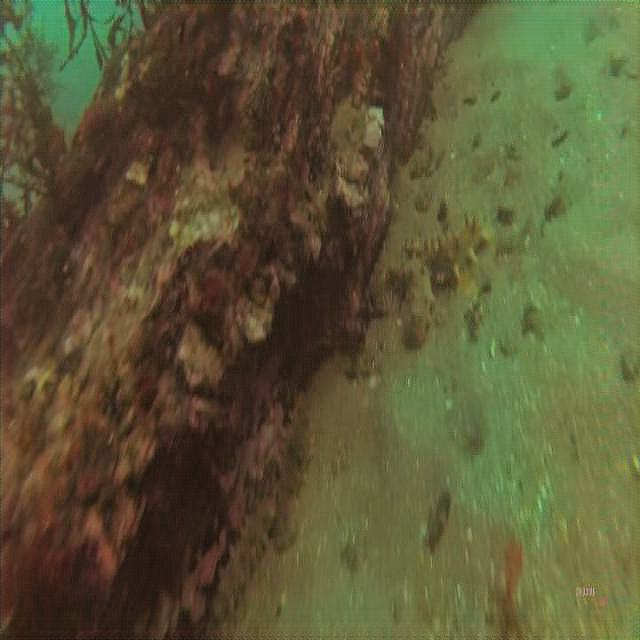holothurian: (212, 486, 276, 626), (271, 390, 315, 555), (407, 212, 493, 296), (388, 251, 438, 354)
